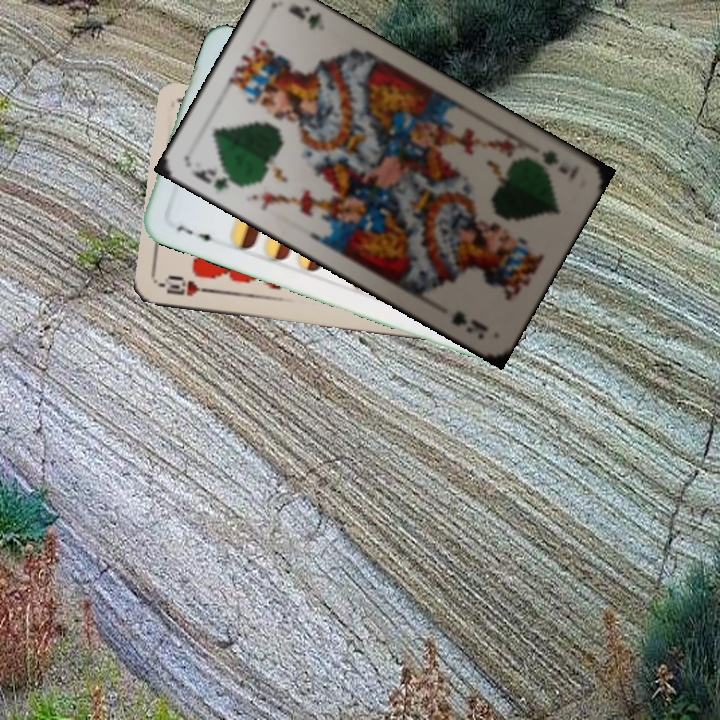E7: (171, 221, 219, 247)
GK: (188, 164, 243, 194), (537, 146, 570, 177)
H10: (156, 274, 215, 299)
